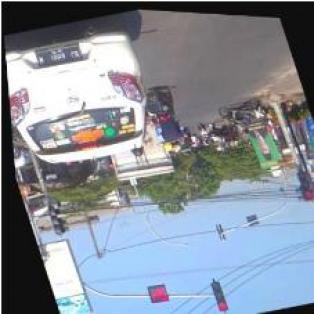Semaforo Rojo: (292, 164, 314, 198), (205, 278, 224, 311)
